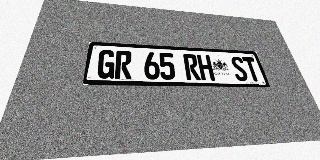5: (159, 53, 176, 80)
6: (144, 52, 160, 80)
G: (96, 50, 116, 79)
H: (197, 54, 215, 81)
R: (114, 50, 132, 79), (183, 54, 201, 80)
S: (230, 56, 249, 81)
T: (242, 57, 262, 81)
